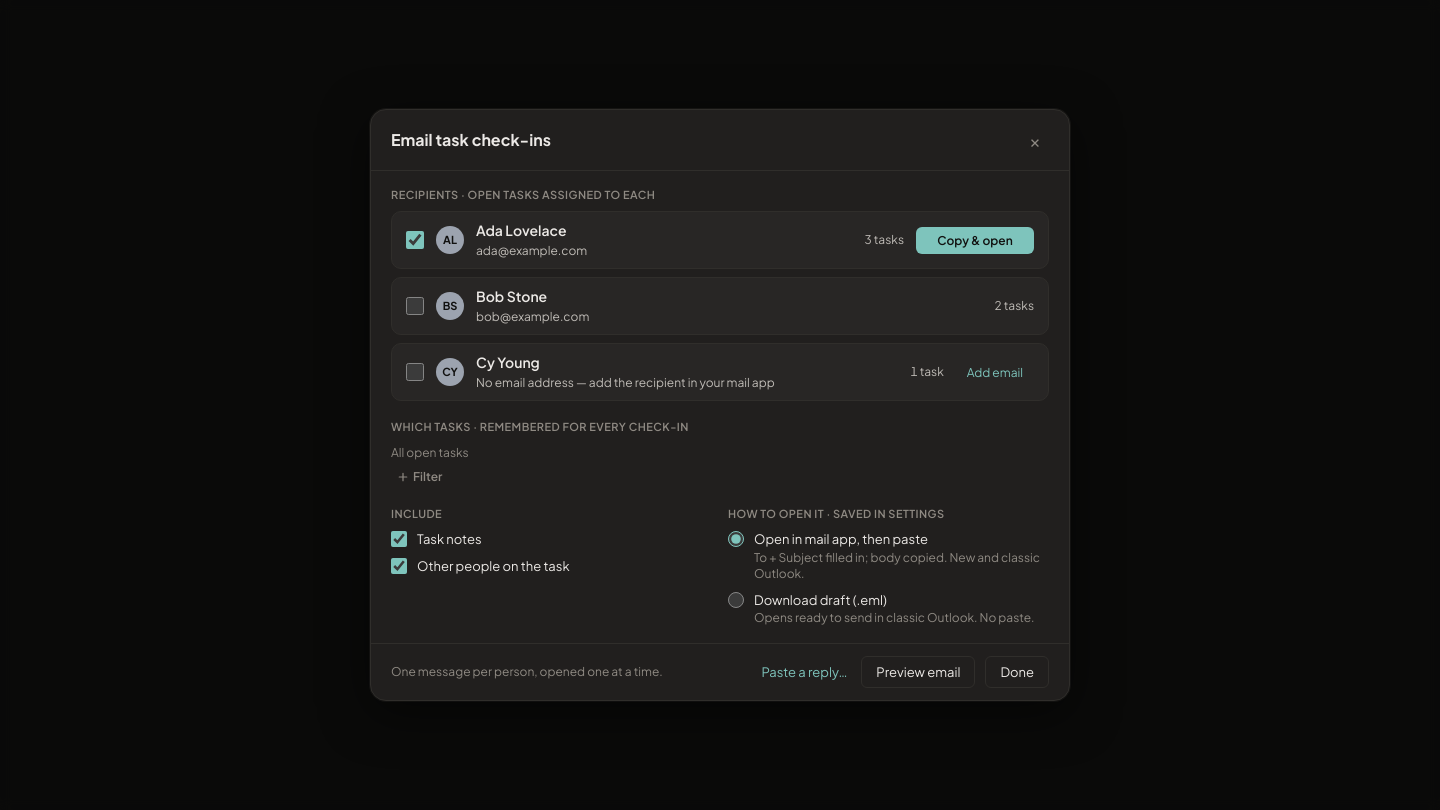
Test case: CheckinDialog — sending › Copy & open: clipboard first, then the mailto: link; records one follow-up; row shows Opened
The width and height of the screenshot is (1440, 810).
Click the button with aria-label "Copy & open for Ada Lovelace" at (975, 240), box [916,227,1034,254]
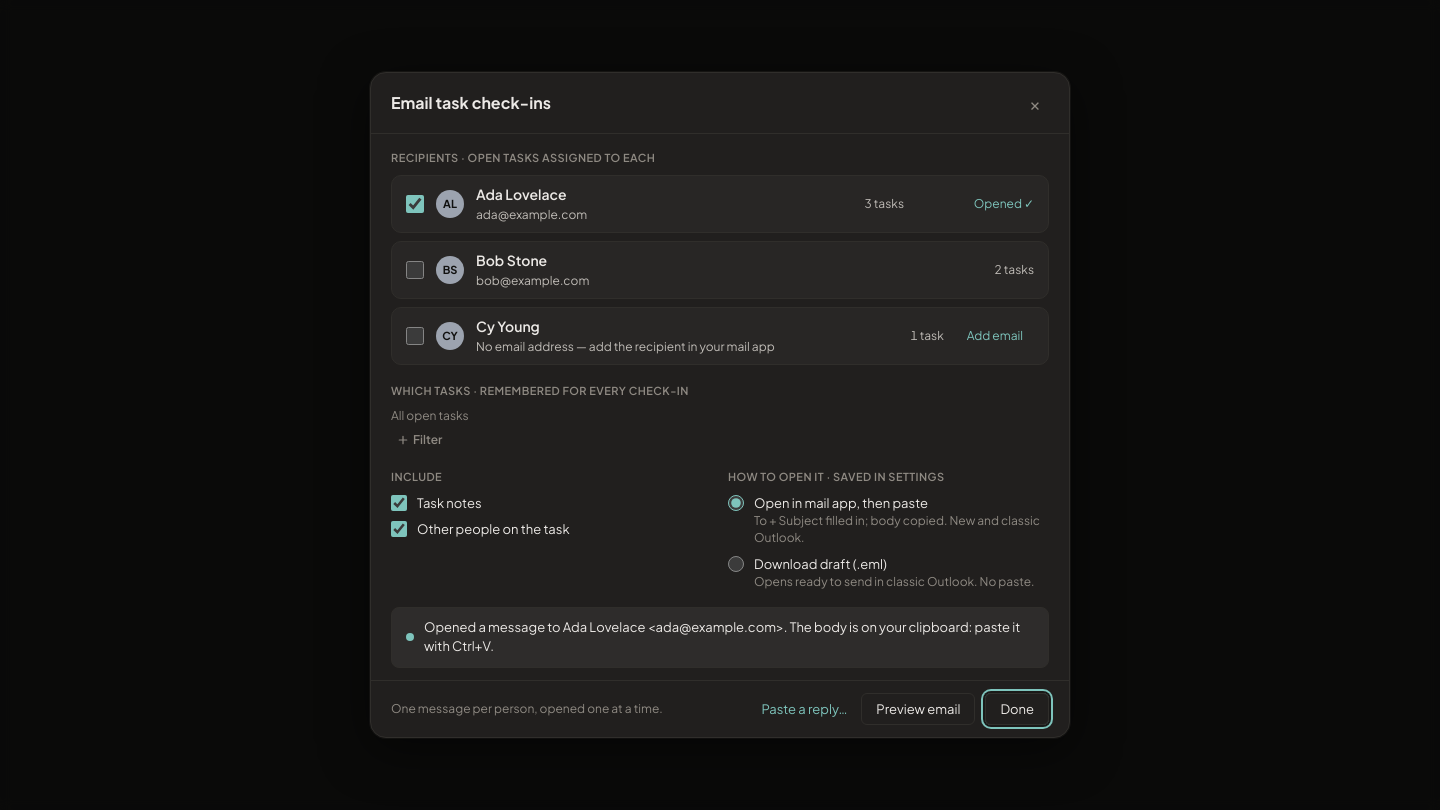
Result: the text "Opened ✓" is shown at [974,196,1034,211]
